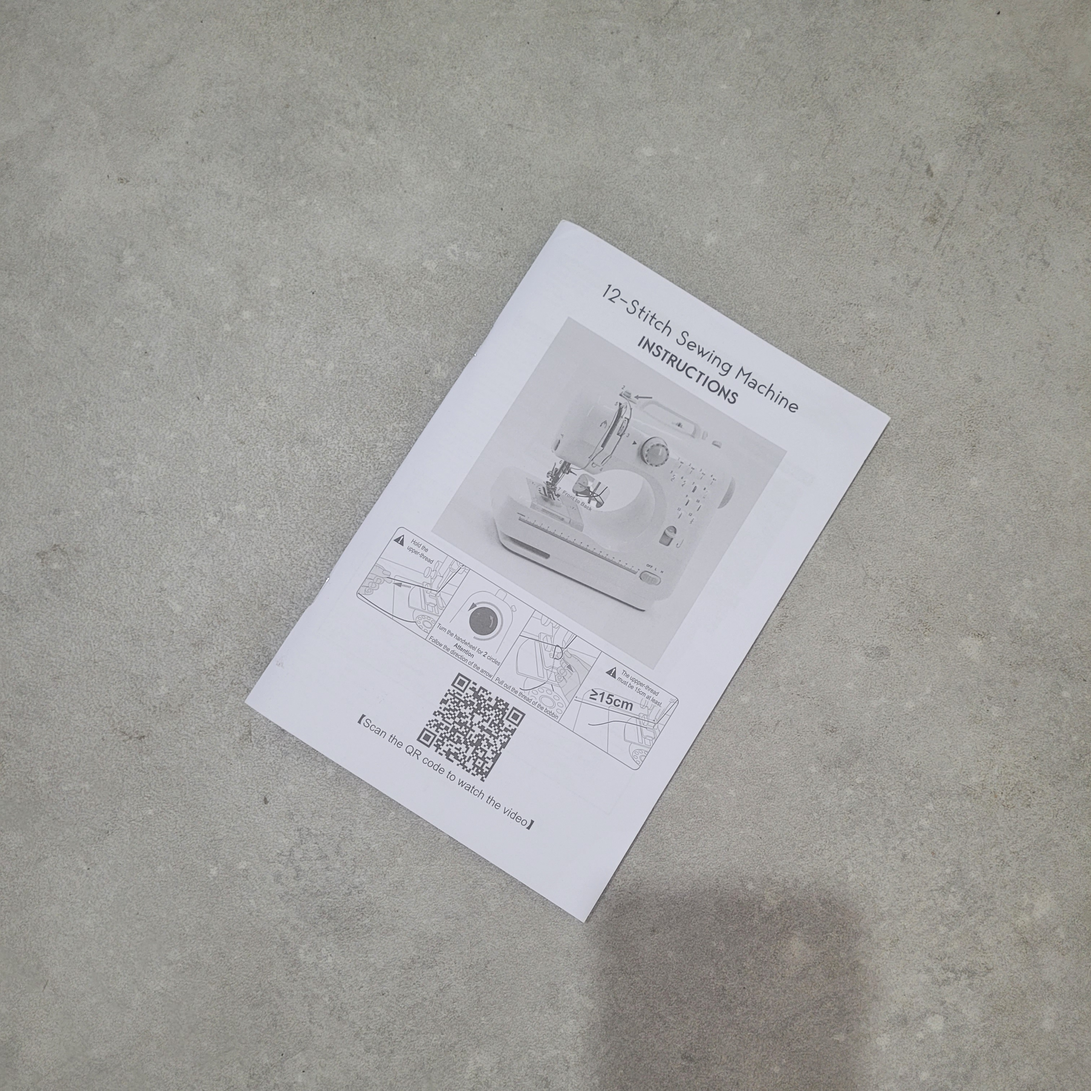paper: (238, 213, 898, 929)
